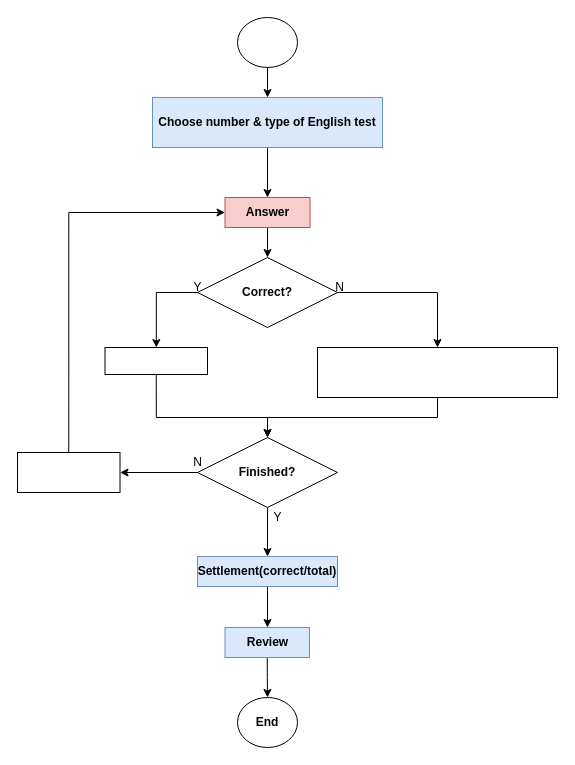
The diagram is 575 pixels wide and 765 high, and some of its shapes have lost their labels. The shapes that lost their labels are listed below. From the top down, each one's box as (x1, y1, x2, y2) in pixels, then its label:
(236, 16, 298, 68): Start
(104, 346, 208, 374): Show 'Correct'
(316, 346, 558, 398): Show 'Wrong' + correct answer
(16, 452, 120, 492): Next question
